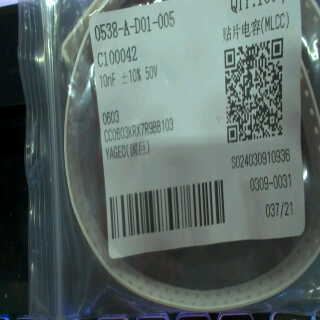10nF: (98, 70, 118, 91)
